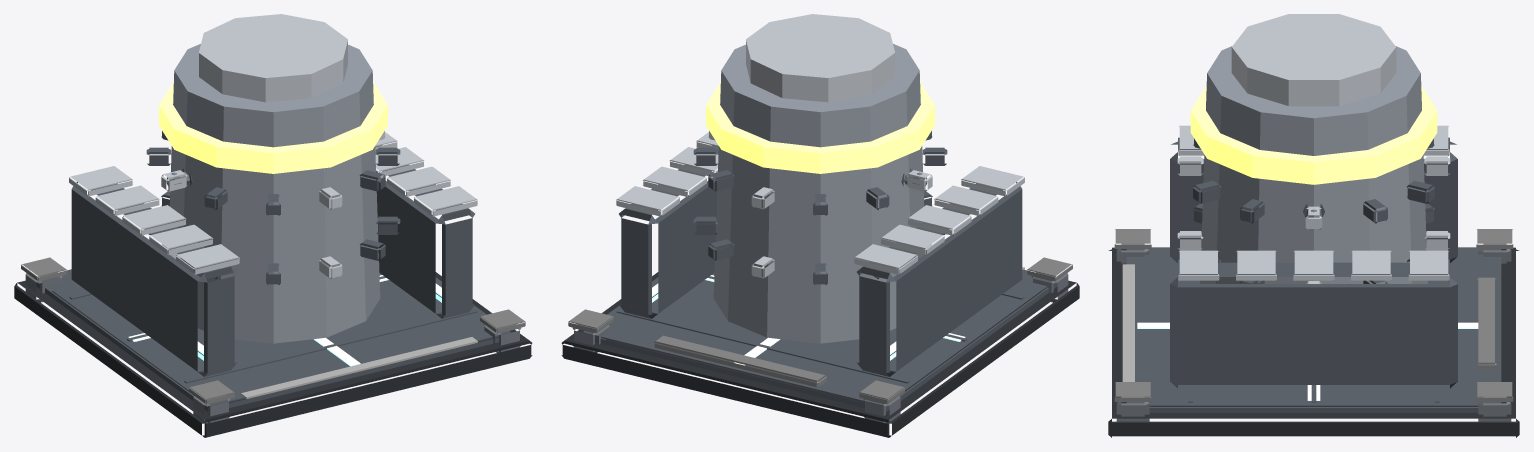
Rendered from converter.glb.
The picture shows the model from 3 angles, left to right: view 1: azimuth 30°, elevation 25°; view 2: azimuth 150°, elevation 25°; view 3: azimuth 270°, elevation 25°; orthographic projection. The views are drawn at different scales.
Visible parts, largest first — view 1: body; view 2: body; view 3: body.
Boxes of the visible parts, <box> form: body: <box>14,14,532,437</box>; body: <box>561,14,1079,437</box>; body: <box>1108,14,1519,437</box>.
Bounding box in the file's own units: 48 × 39.36 × 48.
